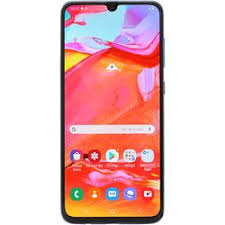samsung: (59, 1, 165, 225)
